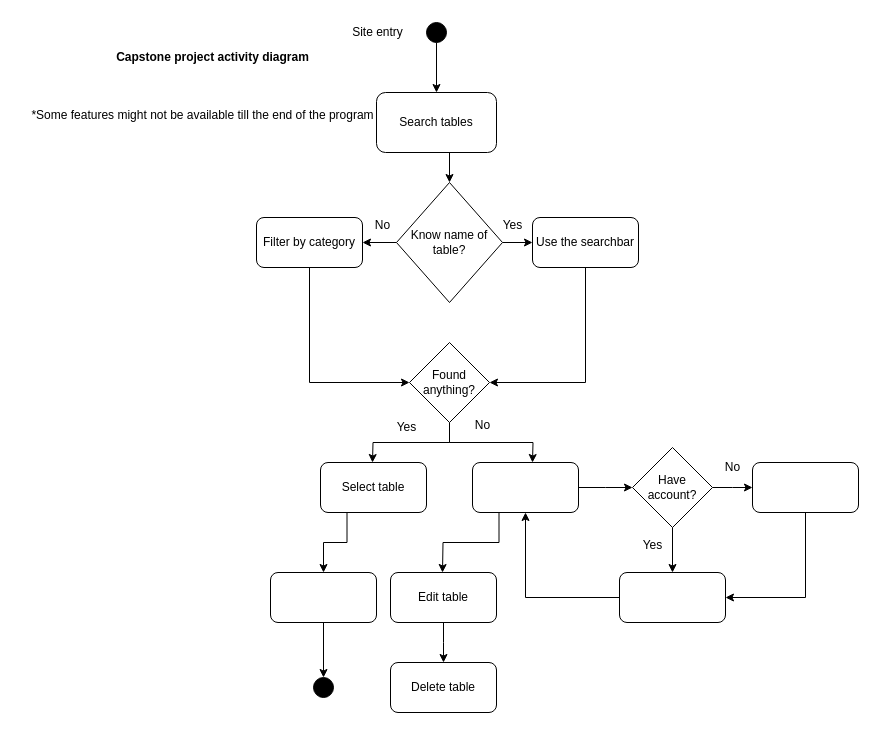
This 876x730 diagram has some shape labels left out. The shapes that lost their labels are listed below. From the top down, each one's centre as x and y in pixels, then its label:
At pixel 525 487: "Create table".
At pixel 805 487: "Sign up".
At pixel 323 597: "Roll on table".
At pixel 672 597: "Log in".
